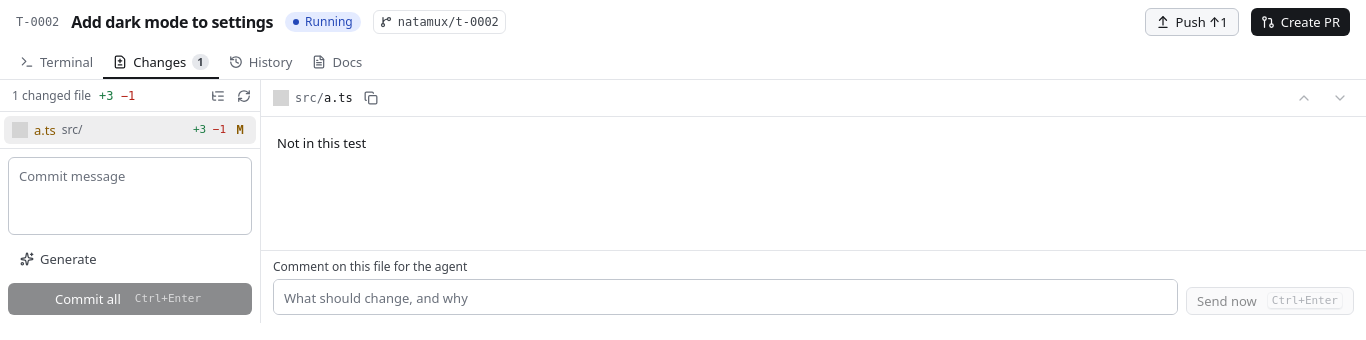
Test case: ChangesView › the commit message draft › takes the draft when the text is back to what it was
This screenshot has width=1366, height=340.
Click the button "Generate" at (58,259), box [8,243,109,275]
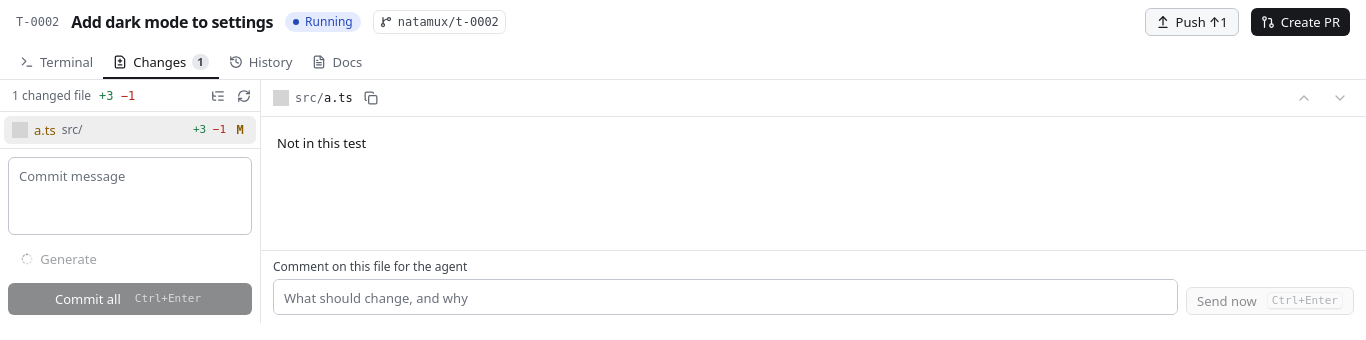
Type "a" into the text box labelled "Commit message" at (130,196), box [8,157,252,235]
Then press Backspace
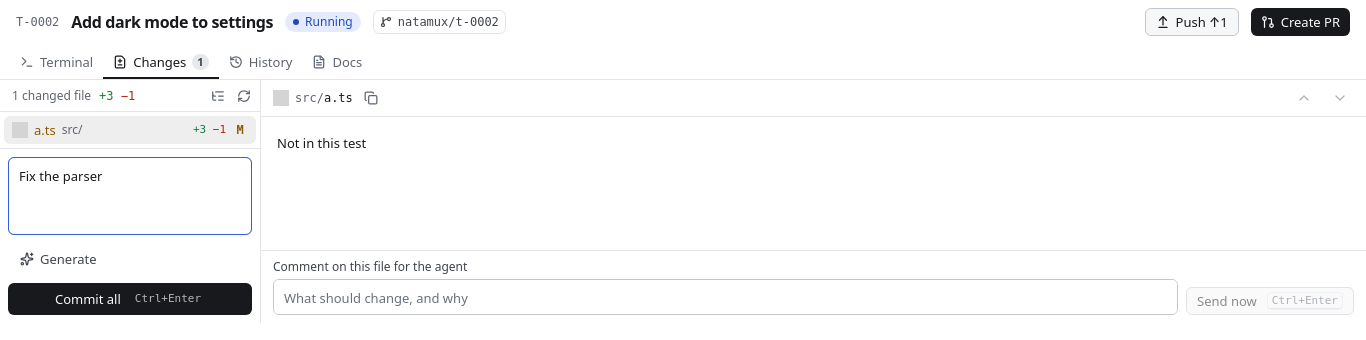
expect the text box named "Commit message" holds "Fix the parser": met, box [8,157,252,235]
